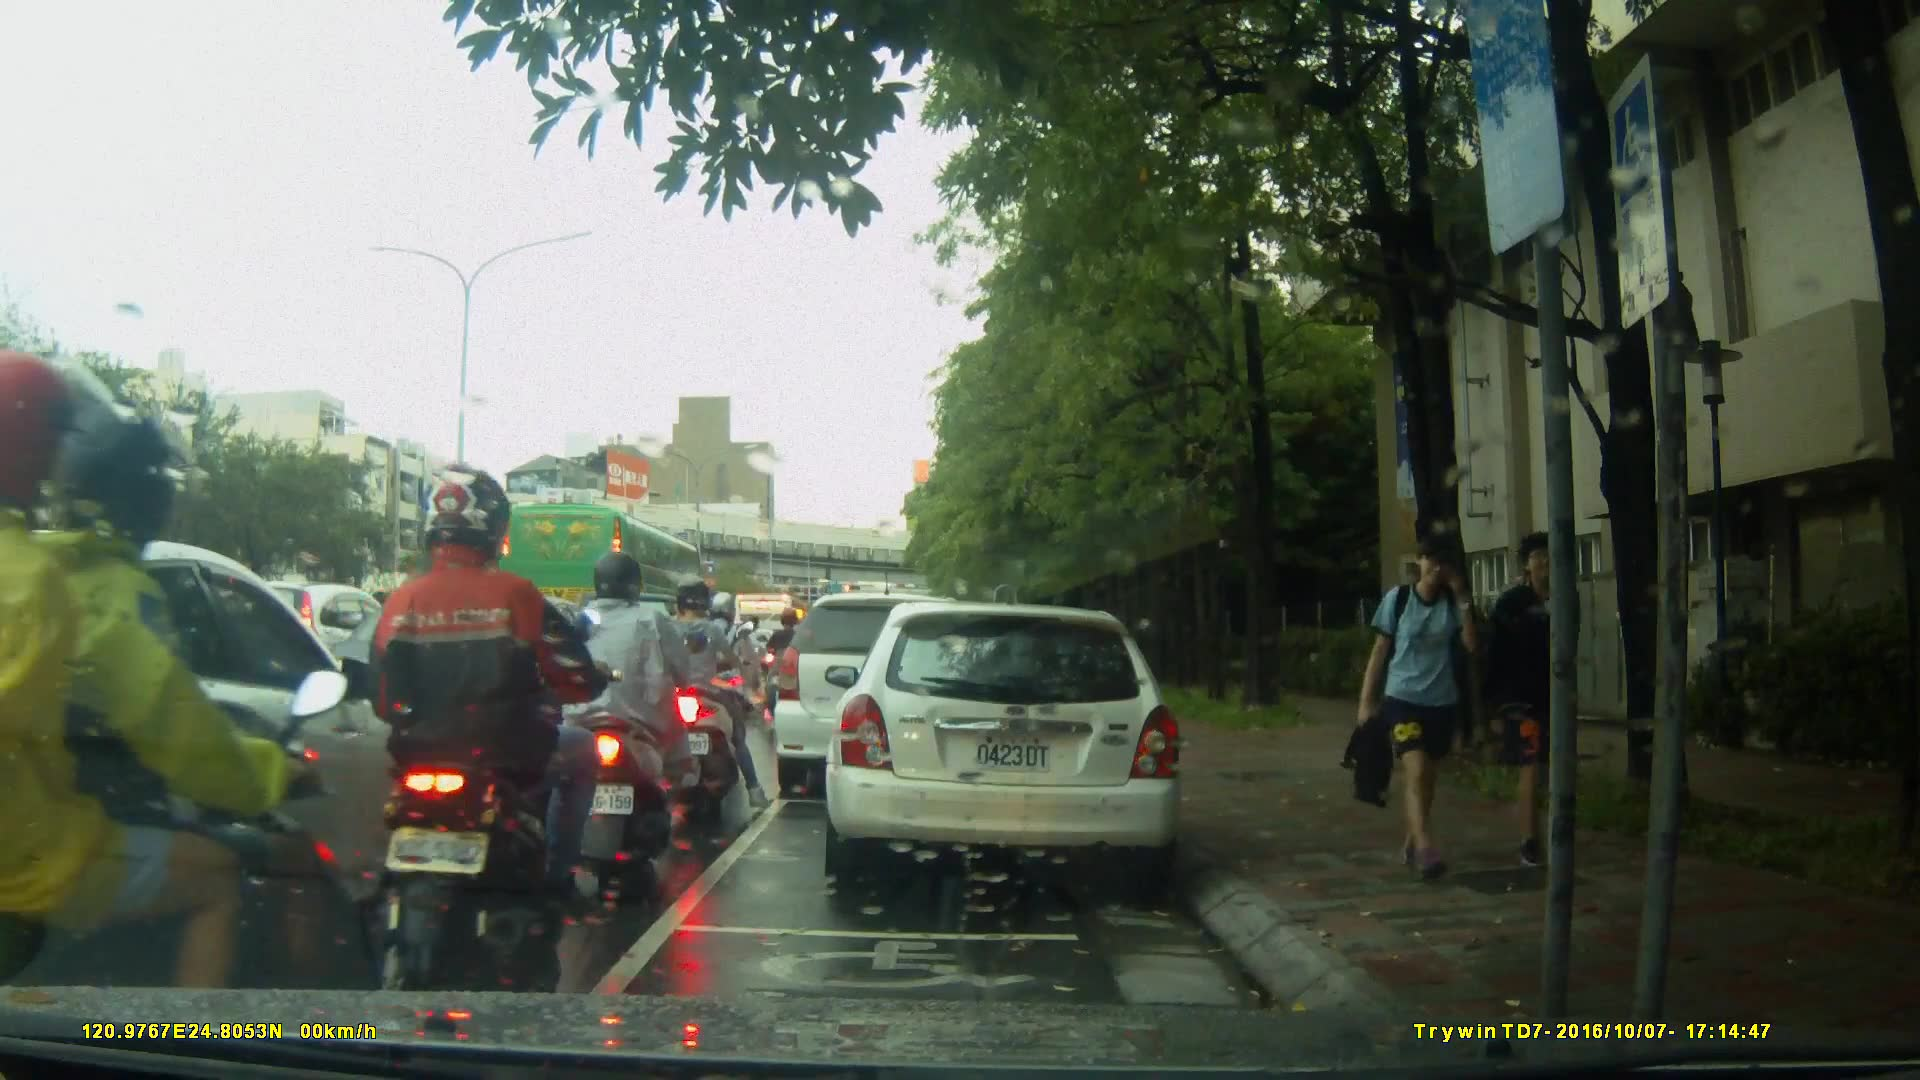pedestrian: (1334, 530, 1495, 880), (1485, 534, 1599, 878)
rider: (1, 342, 350, 1080), (370, 462, 629, 991), (557, 552, 727, 888), (647, 568, 746, 818), (699, 590, 773, 759), (767, 601, 812, 720)
vehicle: (1, 530, 455, 988), (831, 592, 1196, 897), (322, 590, 629, 778), (770, 590, 999, 803), (495, 502, 707, 636)
